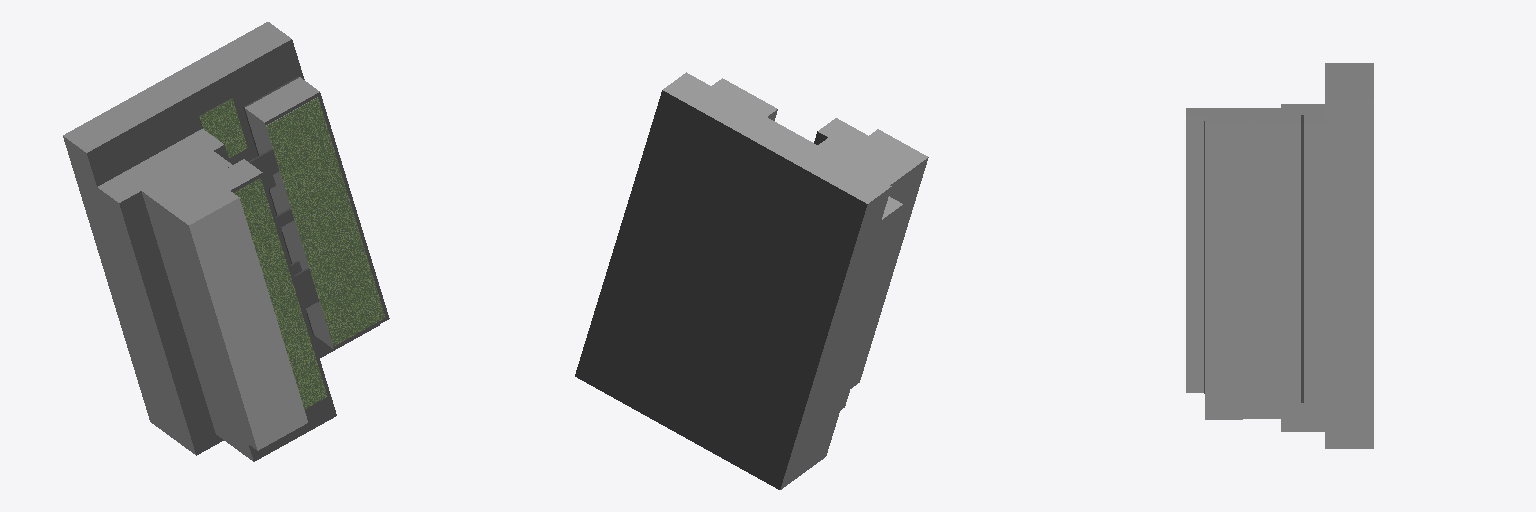
3 views of the same model, side by side, from view 1: azimuth 30°, elevation 25°; view 2: azimuth 150°, elevation 25°; view 3: azimuth 270°, elevation 25° (orthographic).
Bounding box in the file's own units: 253 × 307 × 140.
3 materials, 1 textured.